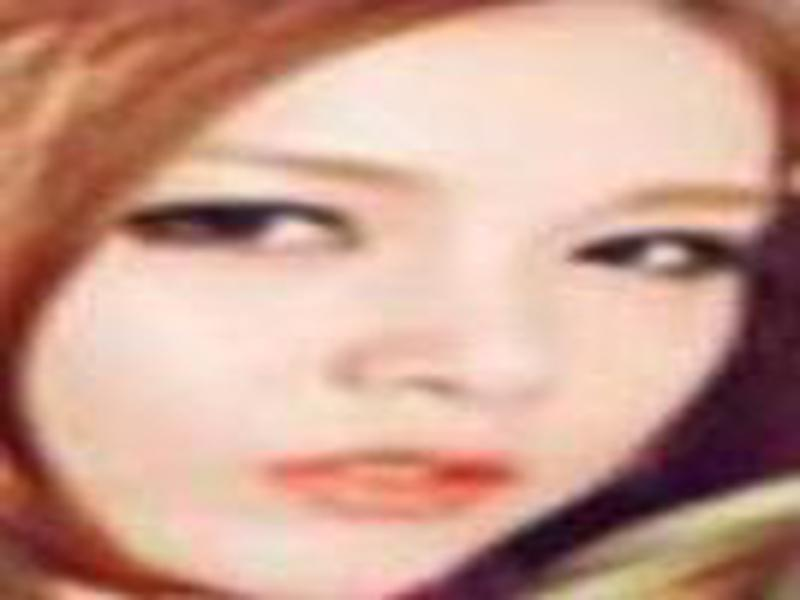without_mask: (19, 14, 755, 597)
